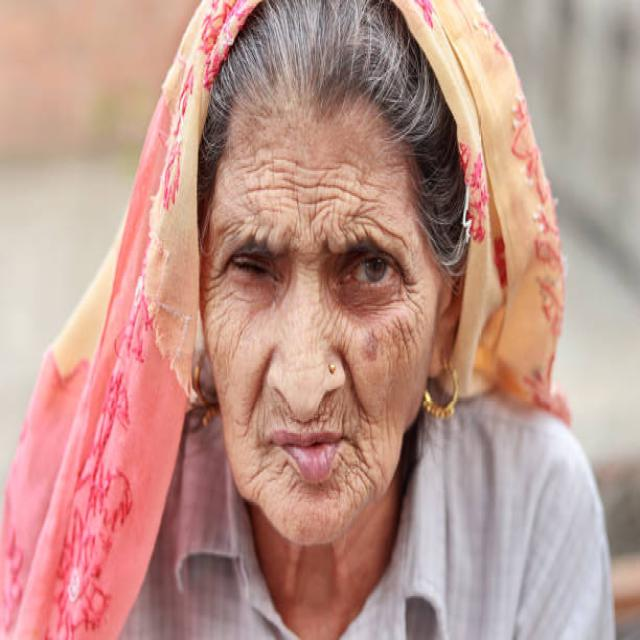Dry-Skin: (341, 296, 439, 476), (238, 108, 385, 226)
